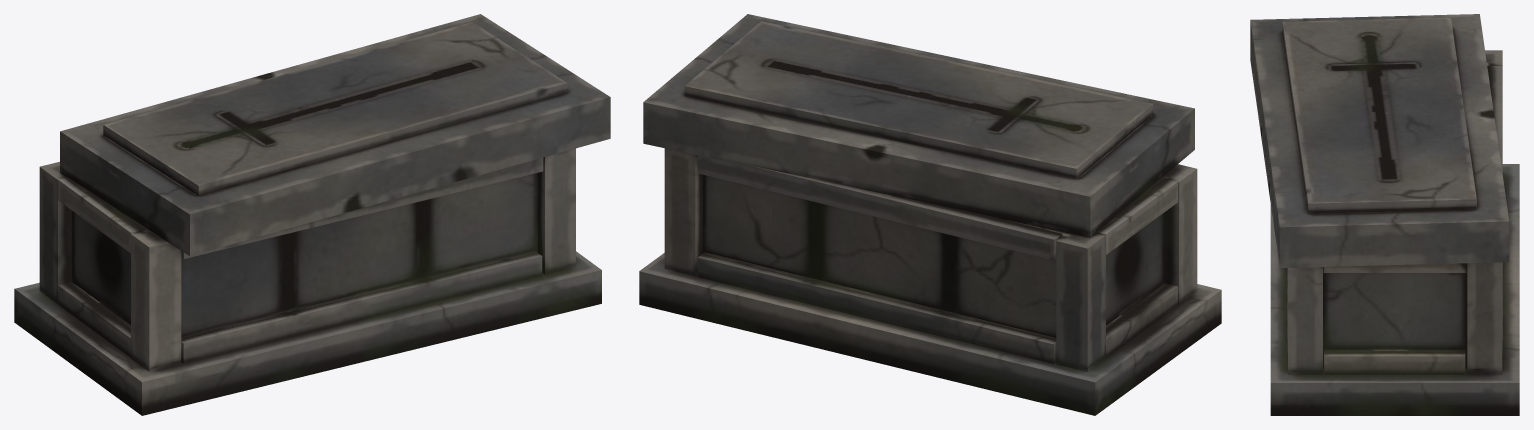
File: sarcophagus.glb
The picture shows the model from 3 angles, left to right: view 1: azimuth 30°, elevation 25°; view 2: azimuth 150°, elevation 25°; view 3: azimuth 270°, elevation 25°; orthographic projection. The views are drawn at different scales.
Visible parts, largest first — view 1: sarcophagus; view 2: sarcophagus; view 3: sarcophagus.
Boxes of the visible parts, bbox=[...] form: sarcophagus: bbox=[14, 14, 610, 415]; sarcophagus: bbox=[639, 14, 1221, 415]; sarcophagus: bbox=[1250, 14, 1519, 415].
Size of the model in its own units: 2.44 by 1.04 by 1.23.
Materials: 1 (1 with a texture image).
